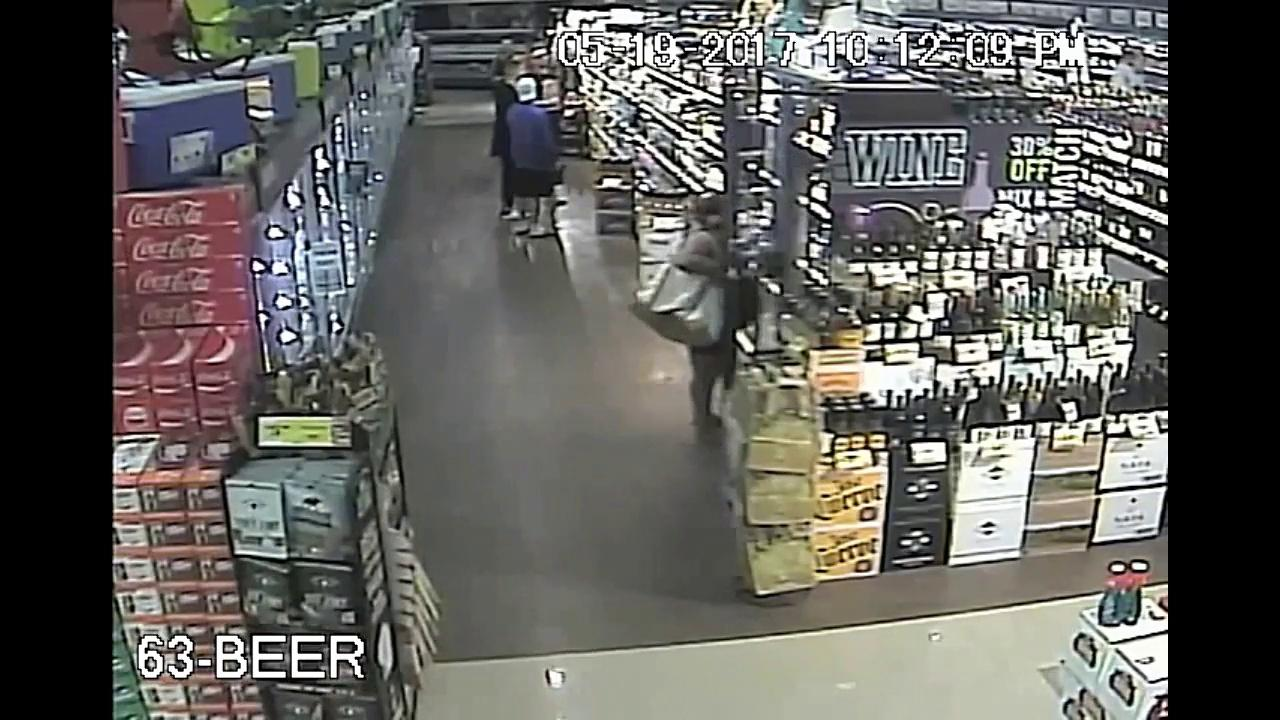2: (638, 153, 840, 458)
3: (463, 35, 580, 259)
persone: (637, 256, 712, 346)
